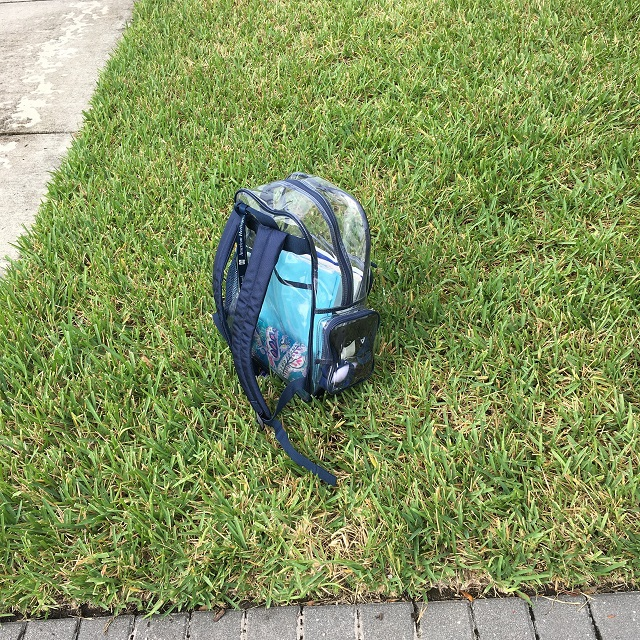clearbackpack: (206, 172, 385, 408)
